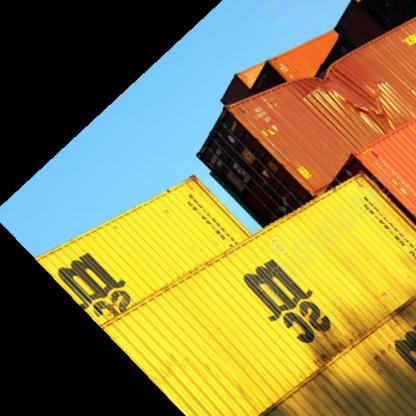Damage: (323, 57, 392, 114)
